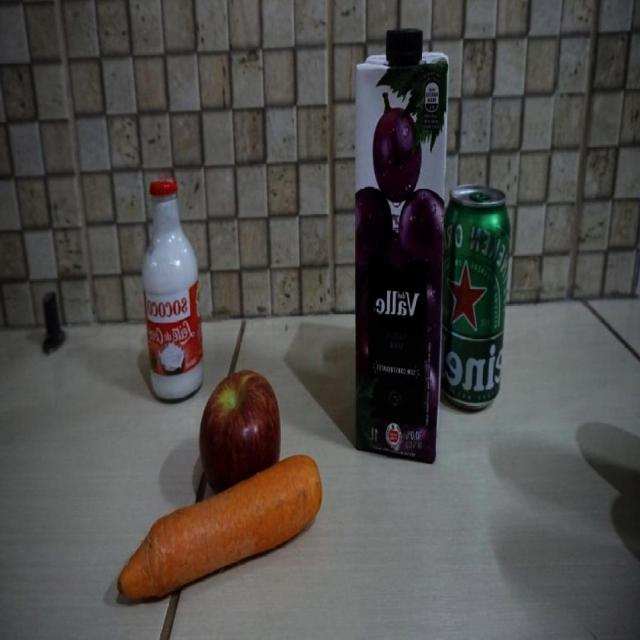Apple: (199, 370, 280, 491)
BeerCan: (438, 184, 508, 409)
Carrot: (117, 455, 322, 600)
CoconutMilk: (138, 179, 204, 406)
